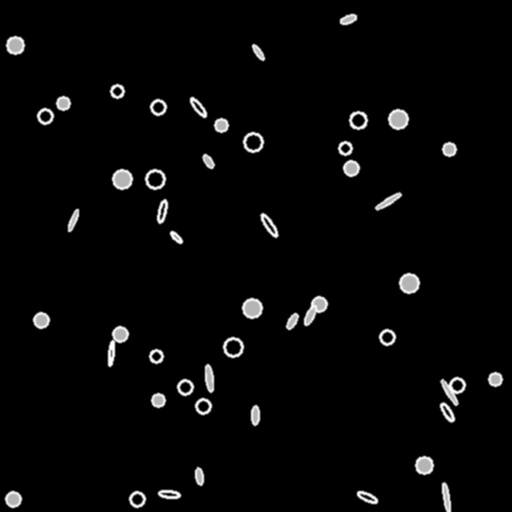pseudomonas: (439, 378, 459, 406), (374, 191, 402, 211), (259, 212, 279, 238), (188, 96, 208, 118), (66, 208, 80, 232), (439, 402, 455, 422), (303, 304, 317, 326), (356, 490, 378, 504), (441, 483, 451, 511), (204, 365, 214, 391), (285, 312, 299, 330), (251, 44, 265, 60), (201, 153, 215, 169), (157, 200, 167, 222), (339, 13, 357, 25), (107, 340, 115, 366), (159, 489, 179, 499), (169, 230, 183, 244), (195, 467, 203, 485), (252, 405, 258, 425)
synechocystis: (389, 110, 407, 128), (243, 299, 261, 317), (244, 133, 262, 151), (224, 338, 242, 356), (146, 170, 164, 188), (400, 274, 418, 292), (113, 170, 131, 188), (7, 37, 23, 53), (350, 112, 366, 128), (416, 457, 432, 473), (151, 100, 165, 114), (113, 327, 127, 341), (344, 161, 358, 175), (380, 330, 394, 344), (6, 492, 20, 506), (38, 109, 52, 123), (450, 378, 464, 392), (312, 297, 326, 311), (178, 380, 192, 394), (130, 492, 144, 506), (34, 313, 48, 327), (196, 399, 210, 413), (152, 394, 164, 406), (150, 350, 162, 362), (215, 119, 227, 131), (489, 373, 501, 385), (111, 85, 123, 97), (339, 142, 351, 154), (443, 143, 455, 155), (57, 97, 69, 109)
